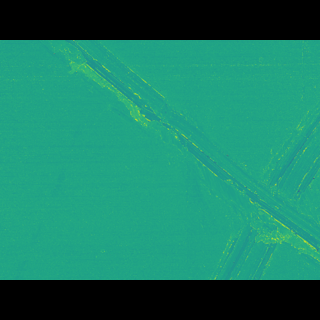Loch: (33, 68, 320, 242), (207, 114, 320, 250)
